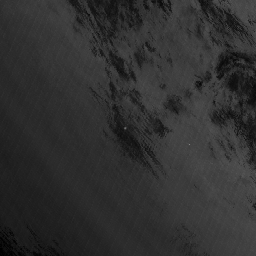Target: (122, 125, 129, 131)
